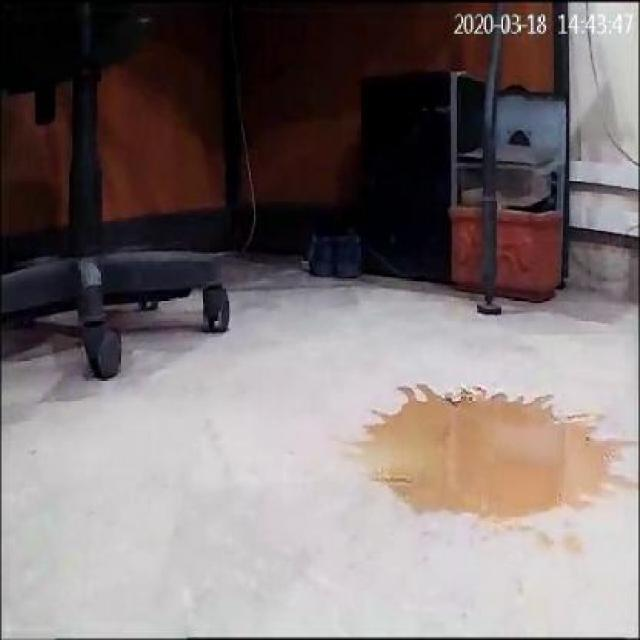spill: (356, 382, 630, 544)
